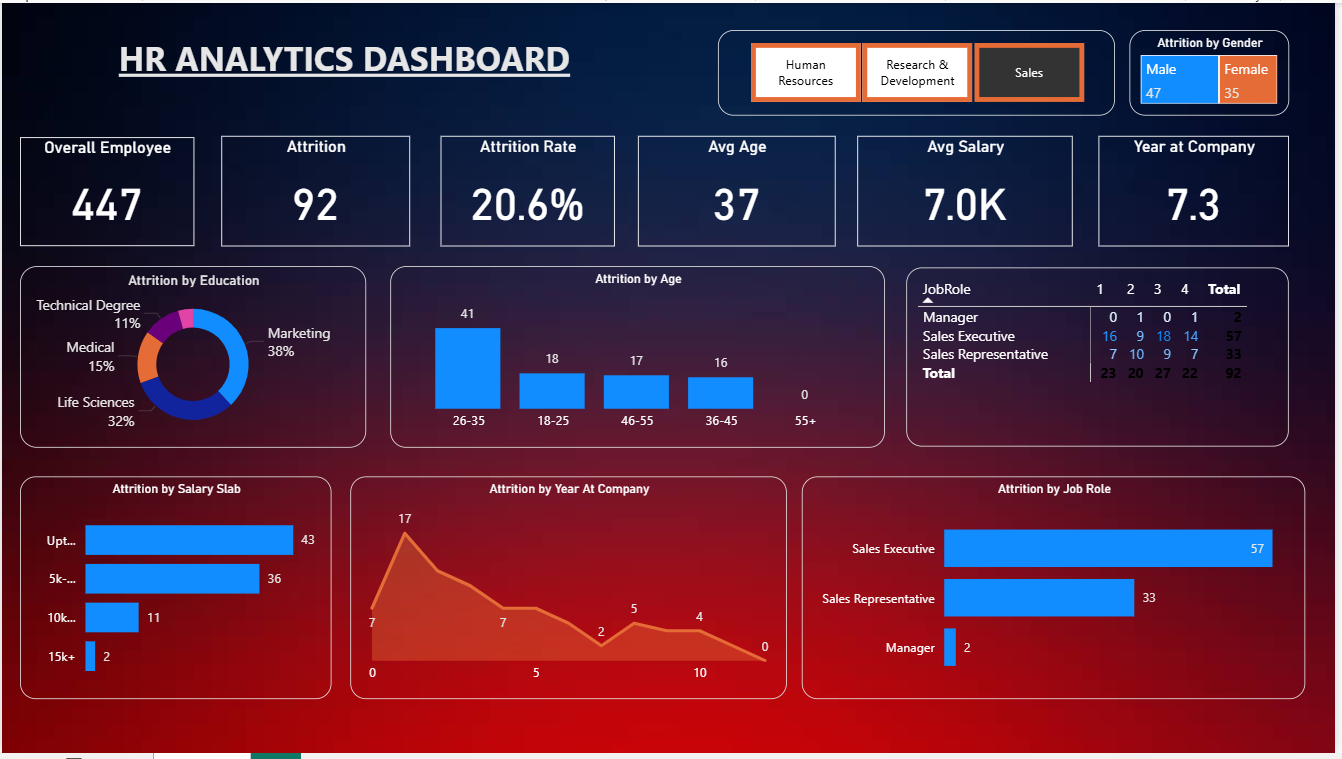

The dashboard page shown, as its layout file describes it:
{"tool":"powerbi","page":{"name":"Page 1","canvas":[1280,720],"ordinal":0},"visuals":[{"type":"card","title":"Overall Employee ","fields":{"Values":["CountNonNull(HR_Analytics.EmpID)"]},"box":[17.4,128.9,167.2,104.5],"z":0},{"type":"card","title":"Attrition Rate","fields":{"Values":["HR_Analytics.AttritionRate"]},"box":[421.4,127.1,167.2,106.2],"z":1000},{"type":"card","title":"Attrition","fields":{"Values":["Sum(HR_Analytics.AttritionCount)"]},"box":[210.7,127.1,181.1,106.2],"z":2000},{"type":"card","title":" Avg Age","fields":{"Values":["Avg(HR_Analytics.Age)"]},"box":[611.2,127.1,189.8,106.2],"z":3000},{"type":"card","title":"Avg Salary","fields":{"Values":["Avg(HR_Analytics.MonthlyIncome)"]},"box":[821.9,127.1,207.2,106.2],"z":4000},{"type":"card","title":"Year at Company","fields":{"Values":["Avg(HR_Analytics.YearsAtCompany)"]},"box":[1053.5,127.1,182.8,106.2],"z":5000},{"type":"donutChart","title":"Attrition by Education","fields":{"Category":["HR_Analytics.EducationField"],"Y":["Sum(HR_Analytics.AttritionCount)"]},"box":[17.4,252.5,332.6,174.1],"z":6000},{"type":"columnChart","title":"Attrition by Age","fields":{"Category":["HR_Analytics.AgeGroup"],"Y":["Sum(HR_Analytics.AttritionCount)"]},"box":[372.6,252.5,475.4,174.1],"z":7000},{"type":"pivotTable","fields":{"Rows":["HR_Analytics.JobRole"],"Columns":["HR_Analytics.JobSatisfaction"],"Values":["Sum(HR_Analytics.AttritionCount)"]},"box":[868.9,254.2,367.4,172.4],"z":8000},{"type":"clusteredBarChart","title":"Attrition by Salary Slab","fields":{"Category":["HR_Analytics.SalarySlab"],"Y":["Sum(HR_Analytics.AttritionCount)"]},"box":[17.4,454.5,299.5,214.2],"z":9000},{"type":"clusteredBarChart","title":"Attrition by Job Role","fields":{"Y":["Sum(HR_Analytics.AttritionCount)"],"Category":["HR_Analytics.JobRole"]},"box":[767.9,454.5,484.1,214.2],"z":10000},{"type":"areaChart","title":"Attrition by Year At Company","fields":{"Category":["HR_Analytics.YearsAtCompany"],"Y":["Sum(HR_Analytics.AttritionCount)"]},"box":[334.3,454.5,419.7,214.2],"z":11000},{"type":"treemap","title":"Attrition by Gender ","fields":{"Group":["HR_Analytics.Gender"],"Values":["Sum(HR_Analytics.AttritionCount)"]},"box":[1083.4,26.1,153.3,81.9],"z":12000},{"type":"slicer","fields":{"Values":["HR_Analytics.Department"]},"box":[687.8,26.1,381.3,81.8],"z":13000},{"type":"textbox","box":[17.4,26.1,623.4,66.2],"z":14000}]}

Visuals, with their boxes in screenshot pixels (x1, y1, x2, y2), scaled from the page's 1280x720 canvas onto the 1342x759 screenshot:
"Overall Employee " card: [18, 136, 194, 246]
"Attrition Rate" card: [442, 134, 617, 246]
"Attrition" card: [221, 134, 411, 246]
" Avg Age" card: [641, 134, 840, 246]
"Avg Salary" card: [862, 134, 1079, 246]
"Year at Company" card: [1105, 134, 1296, 246]
"Attrition by Education" donutChart: [18, 266, 367, 450]
"Attrition by Age" columnChart: [391, 266, 889, 450]
pivotTable - HR_Analytics.JobRole x HR_Analytics.JobSatisfaction: [911, 268, 1296, 450]
"Attrition by Salary Slab" clusteredBarChart: [18, 479, 332, 705]
"Attrition by Job Role" clusteredBarChart: [805, 479, 1313, 705]
"Attrition by Year At Company" areaChart: [350, 479, 791, 705]
"Attrition by Gender " treemap: [1136, 28, 1297, 114]
slicer - HR_Analytics.Department: [721, 28, 1121, 114]
textbox: [18, 28, 672, 97]
